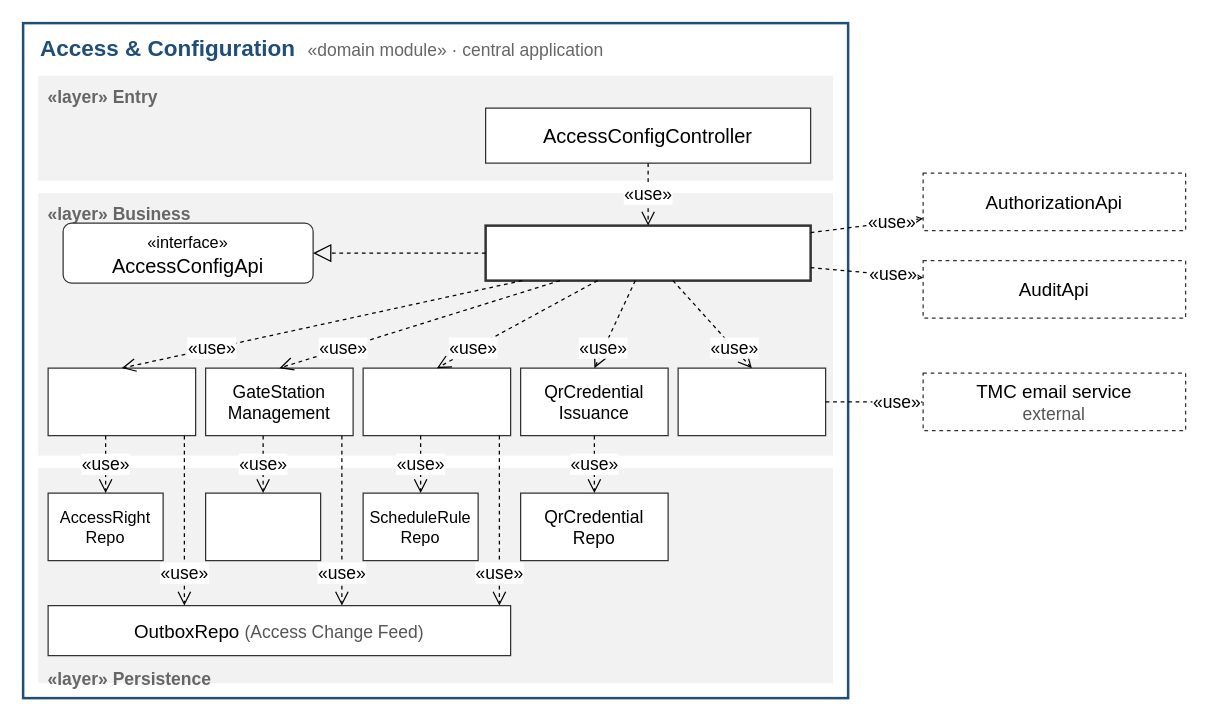
Image size: 1208x720. Some labels were removed from this diagram. The shapes that lost their labels are listed below. From the top down, each one's centre as x and y in pixels, then its label:
At (647,252): "AccessConfigFacade".
At (121,401): "AccessRights Management".
At (436,401): "WorkSchedule Policy".
At (751,401): "EmailLink Sender".
At (262,526): "StationLane Repo".
